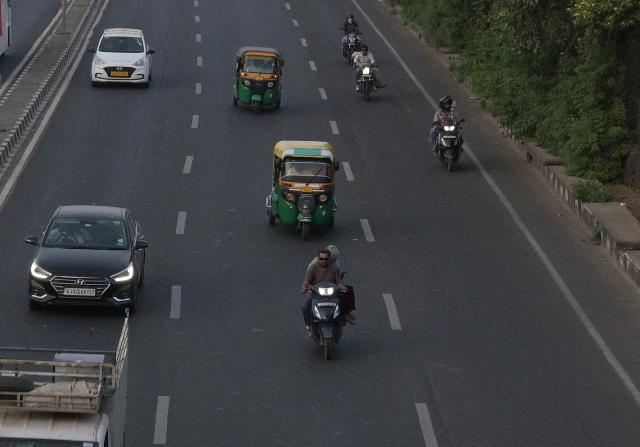With Helmet: (438, 96, 452, 112), (346, 12, 356, 24)
Without Helmet: (360, 46, 370, 56), (450, 100, 458, 112)
